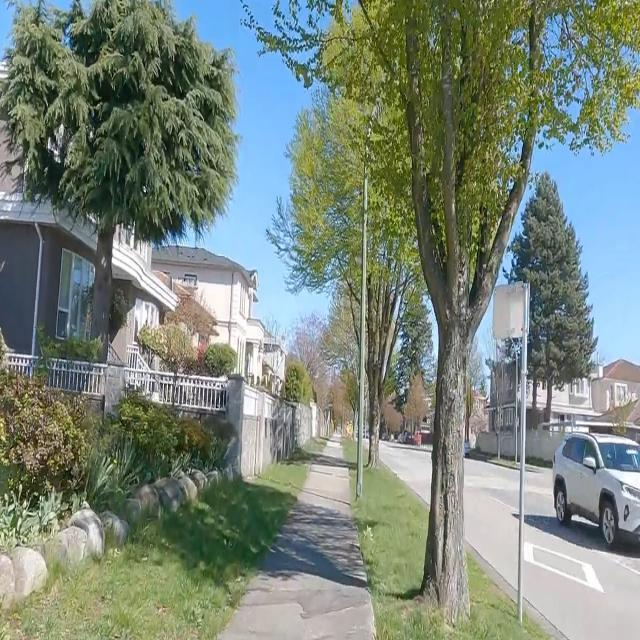Automobile: (553, 432, 639, 547)
Obstacle: (350, 0, 639, 620), (0, 466, 304, 639), (353, 465, 550, 639), (161, 478, 295, 583), (368, 179, 414, 467), (356, 463, 427, 628), (225, 375, 276, 477), (128, 471, 207, 521), (356, 168, 366, 496), (271, 401, 313, 461), (38, 526, 87, 567), (12, 547, 46, 597), (70, 509, 103, 555), (127, 483, 160, 525), (100, 511, 127, 545), (342, 439, 355, 499), (0, 554, 14, 602)
Road: (524, 464, 639, 639), (465, 458, 518, 588), (382, 444, 428, 500)
Sidewalk: (219, 435, 374, 639)
